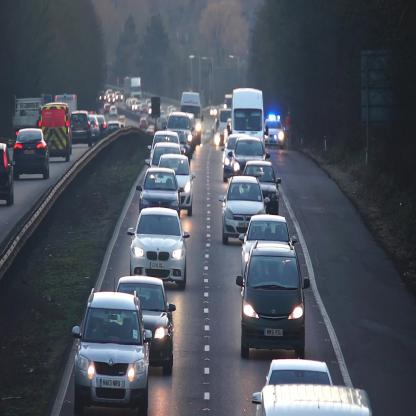car: (70, 288, 149, 415), (236, 240, 310, 362), (116, 276, 176, 374), (127, 207, 190, 290), (239, 215, 297, 283), (219, 175, 268, 247), (136, 168, 180, 218), (159, 155, 195, 215), (244, 160, 281, 216), (13, 128, 50, 179), (230, 136, 272, 174), (164, 112, 193, 158), (71, 110, 92, 147), (222, 135, 237, 181), (264, 119, 284, 148)
truck: (232, 87, 264, 138), (181, 91, 202, 143)
